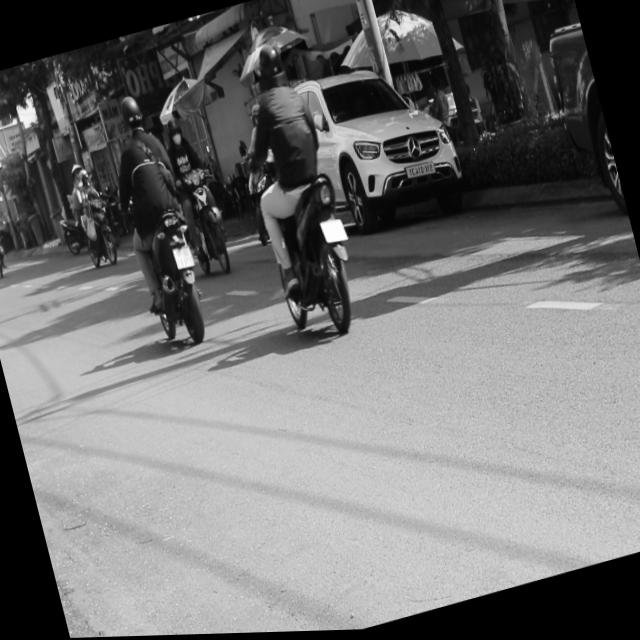helmet: (252, 41, 292, 95), (117, 91, 147, 134), (166, 115, 183, 145)
licenseplate: (218, 30, 372, 349), (94, 84, 218, 354), (158, 105, 238, 282)
nohelmet: (319, 217, 348, 247), (172, 245, 195, 272)
